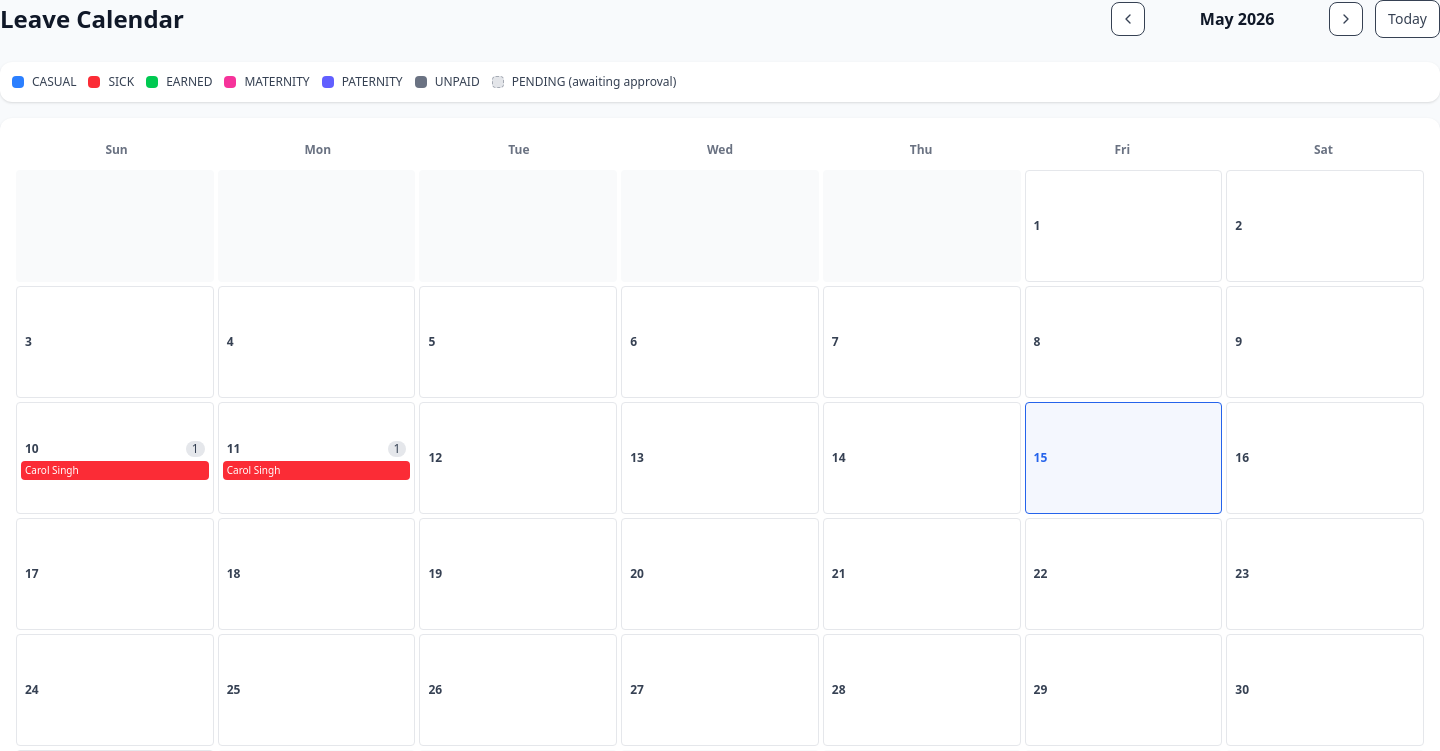
LeaveCalendarPage › clicking a populated day cell opens the detail modal with the leave list
Click the button "10 1 Carol Singh" at (115, 458), box [16, 402, 214, 514]
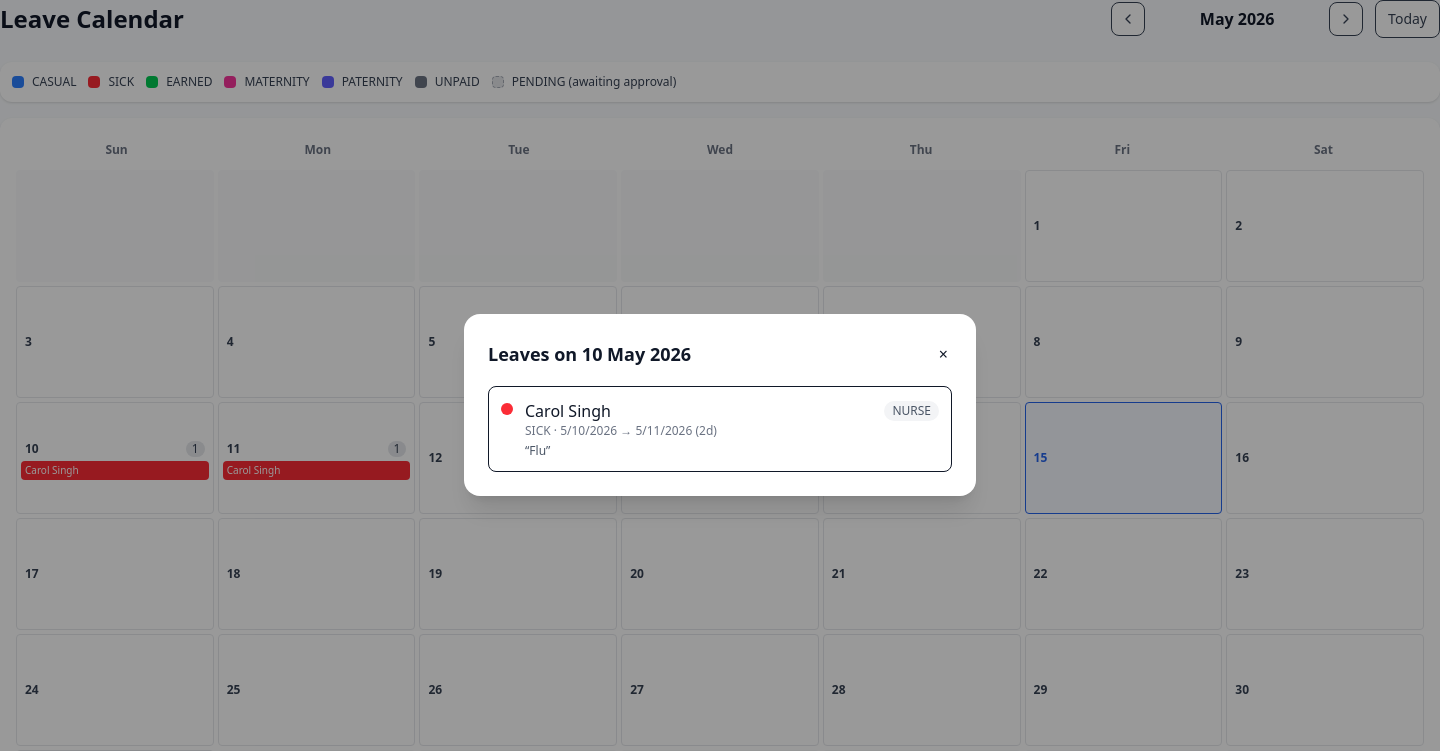
expect the heading "Leaves on 10 May 2026" is shown: met, box [488, 340, 691, 368]
expect the text "NURSE" is shown: met, box [884, 401, 939, 421]
expect the text "SICK · 5/10/2026 → 5/11/2026 (2d)" is shown: met, box [525, 422, 717, 439]
